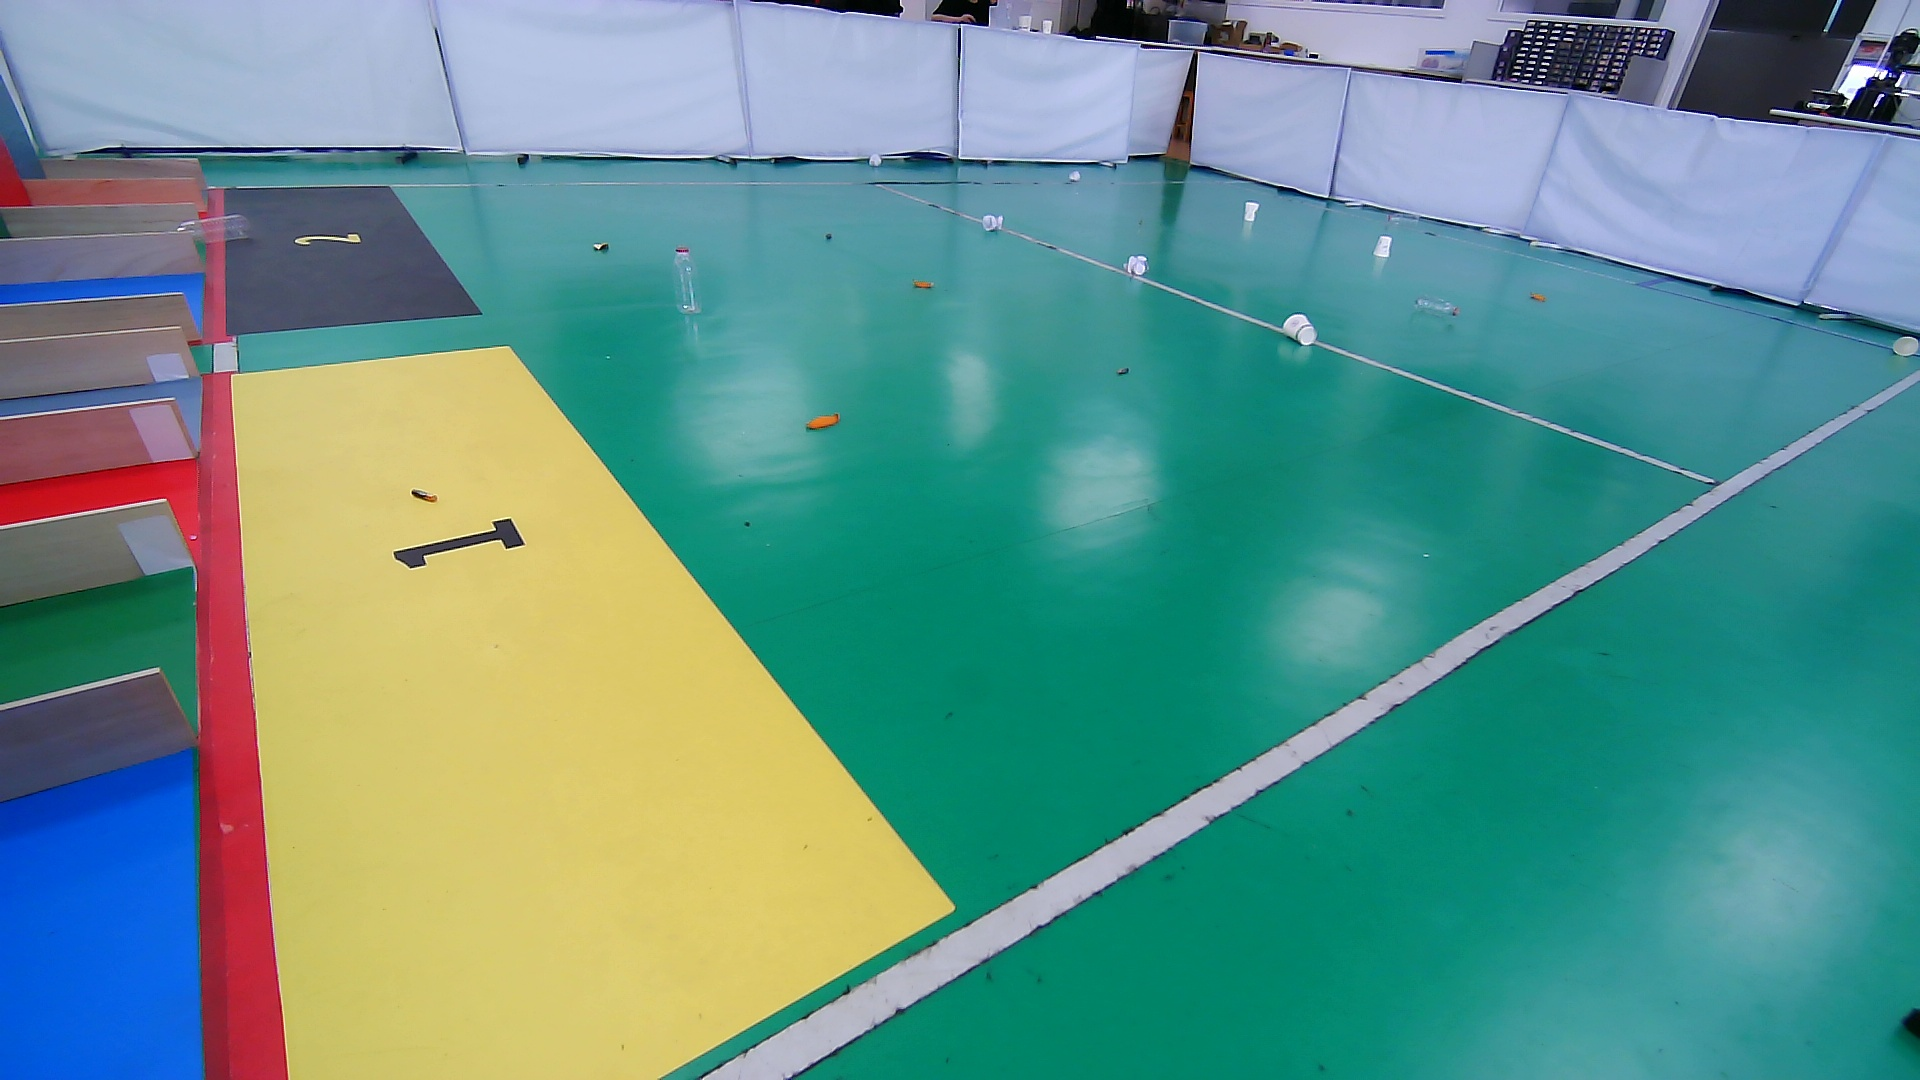battery: (407, 484, 443, 506), (1110, 363, 1135, 380), (818, 229, 841, 245)
bottle: (662, 243, 707, 314), (174, 207, 255, 247), (1411, 290, 1462, 320), (1386, 210, 1422, 227)
orangepeel: (804, 409, 841, 433), (910, 273, 938, 291), (589, 237, 613, 256), (1527, 290, 1548, 305)
papercup: (1280, 311, 1320, 349), (1370, 232, 1394, 262), (1891, 334, 1919, 359), (1240, 198, 1262, 224)
spitball: (1120, 252, 1153, 280), (980, 212, 1006, 235), (1067, 169, 1083, 185), (866, 153, 884, 167)
